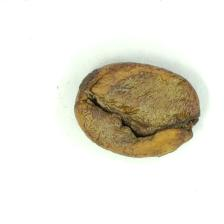NG: (91, 63, 197, 153)
